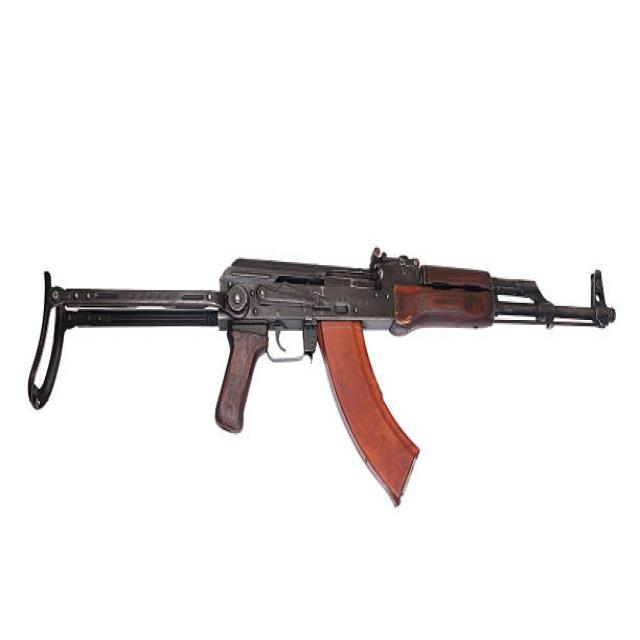rifle: (17, 237, 620, 523)
